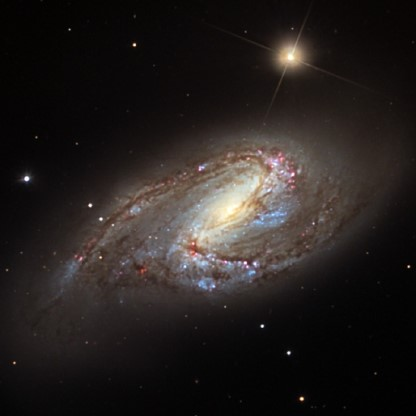Messier 66: (58, 32, 377, 340)
